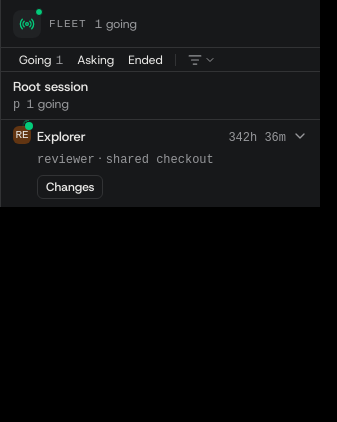
Scenario: the fleet column › names the directory of an agent that has none, instead of an empty branch row
Click the button "RE Explorer 342h 36m". click: (61, 136)
box: [13, 128, 308, 146]
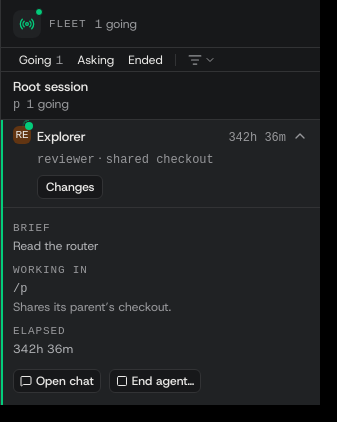
Expected: the element that starts with "Explorer" shows "Working in", [13, 264, 88, 276]
Expected: the element that starts with "Explorer" shows "Shares its parent’s checkout", [13, 299, 171, 315]
